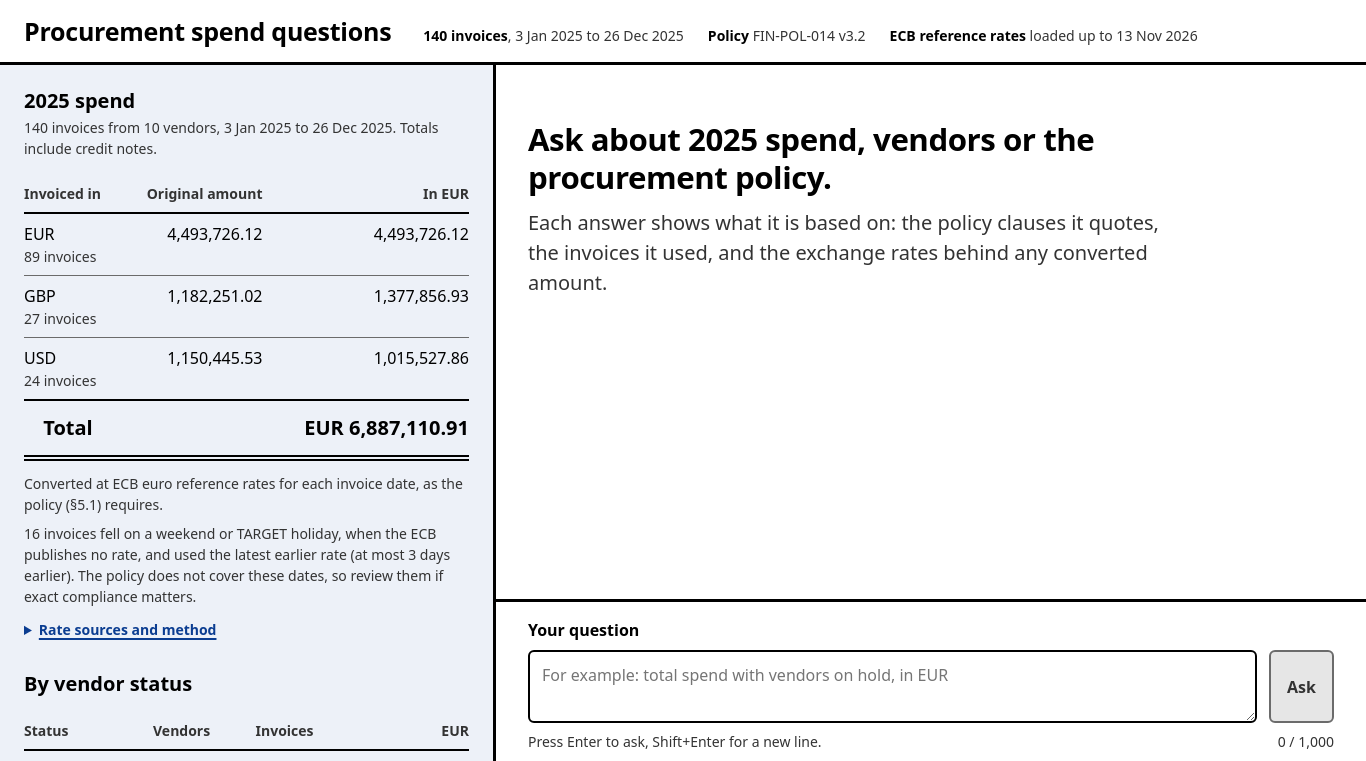
asking questions › shows a policy answer with its basis and the verbatim clause
Type "Who approves EUR 60,000?" into the text box labelled "Your question" at [893, 687], box [528,650,1257,723]
Then press Enter
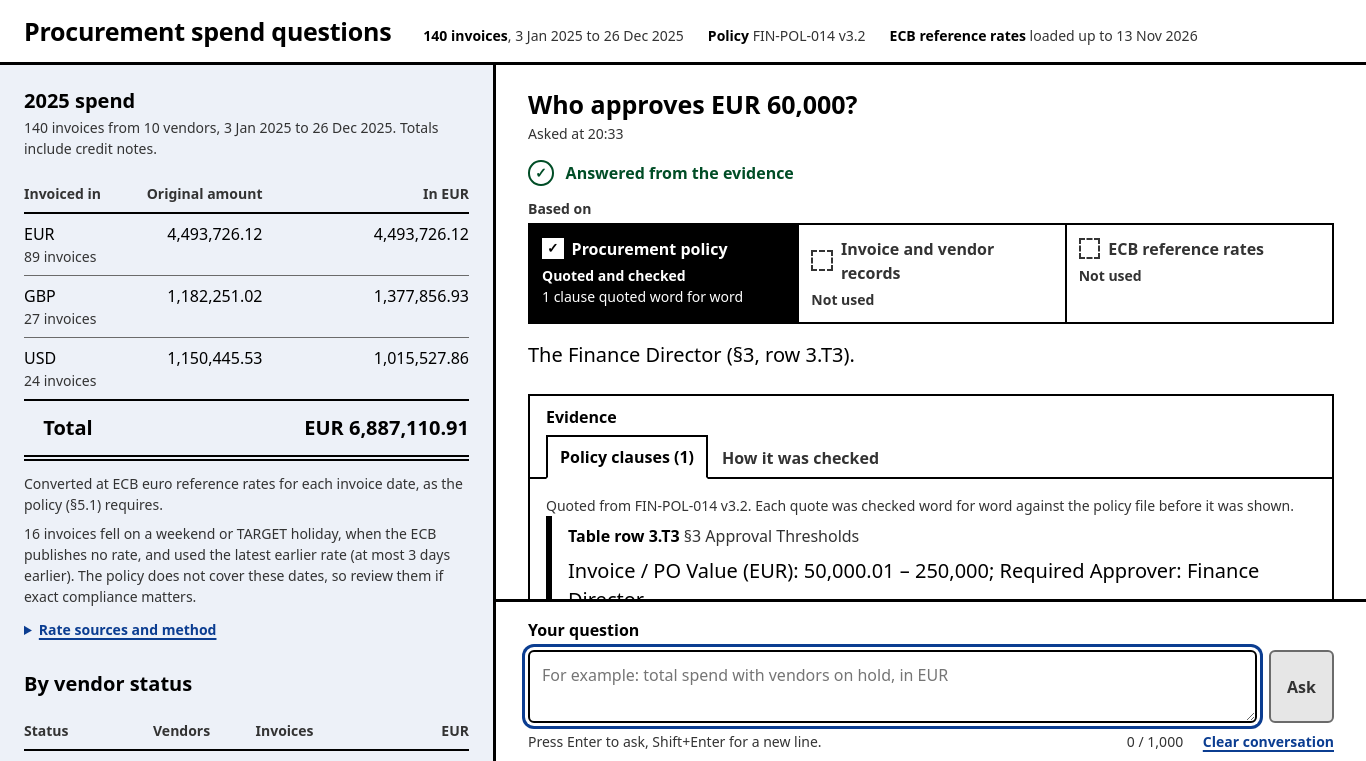
Now the text "Answered from the evidence" is shown, box [566,162,794,184]
Now the text "Required Approver: Finance Director" is shown, box [568,557,1259,599]
